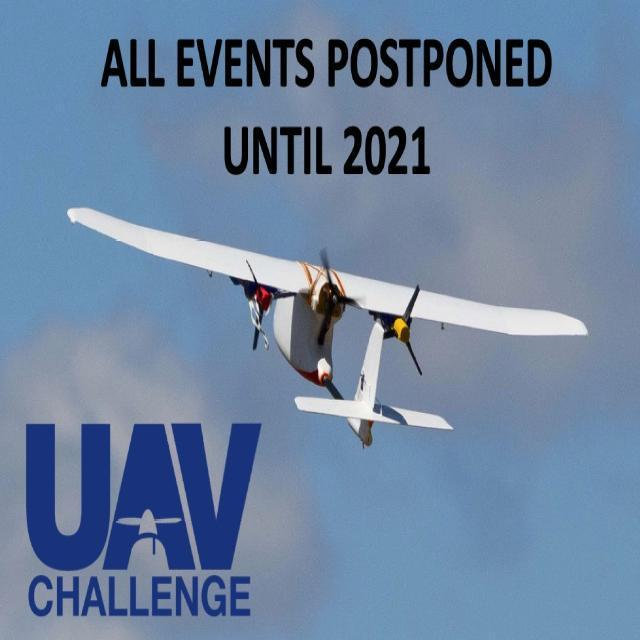iha: (62, 178, 610, 411)
